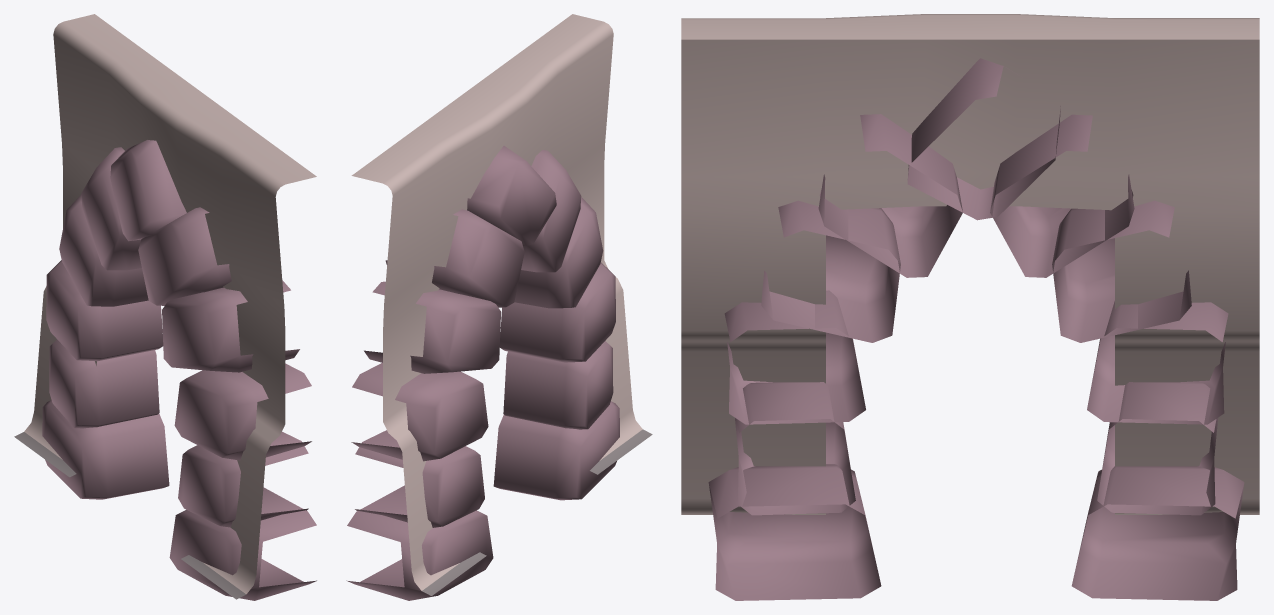
Rendered from 1_Tunnel.glb.
3 views of the same model, side by side, from view 1: azimuth 30°, elevation 25°; view 2: azimuth 150°, elevation 25°; view 3: azimuth 270°, elevation 25° (orthographic). The views are drawn at different scales.
Visible parts, largest first — view 1: Cube.002; view 2: Cube.002; view 3: Cube.002.
Boxes of the visible parts, x1,y1,x2,y2 form: Cube.002: [14, 14, 316, 600]; Cube.002: [346, 14, 652, 600]; Cube.002: [681, 14, 1259, 600].
Size of the model in its own units: 0.9828 by 4.25 by 4.
